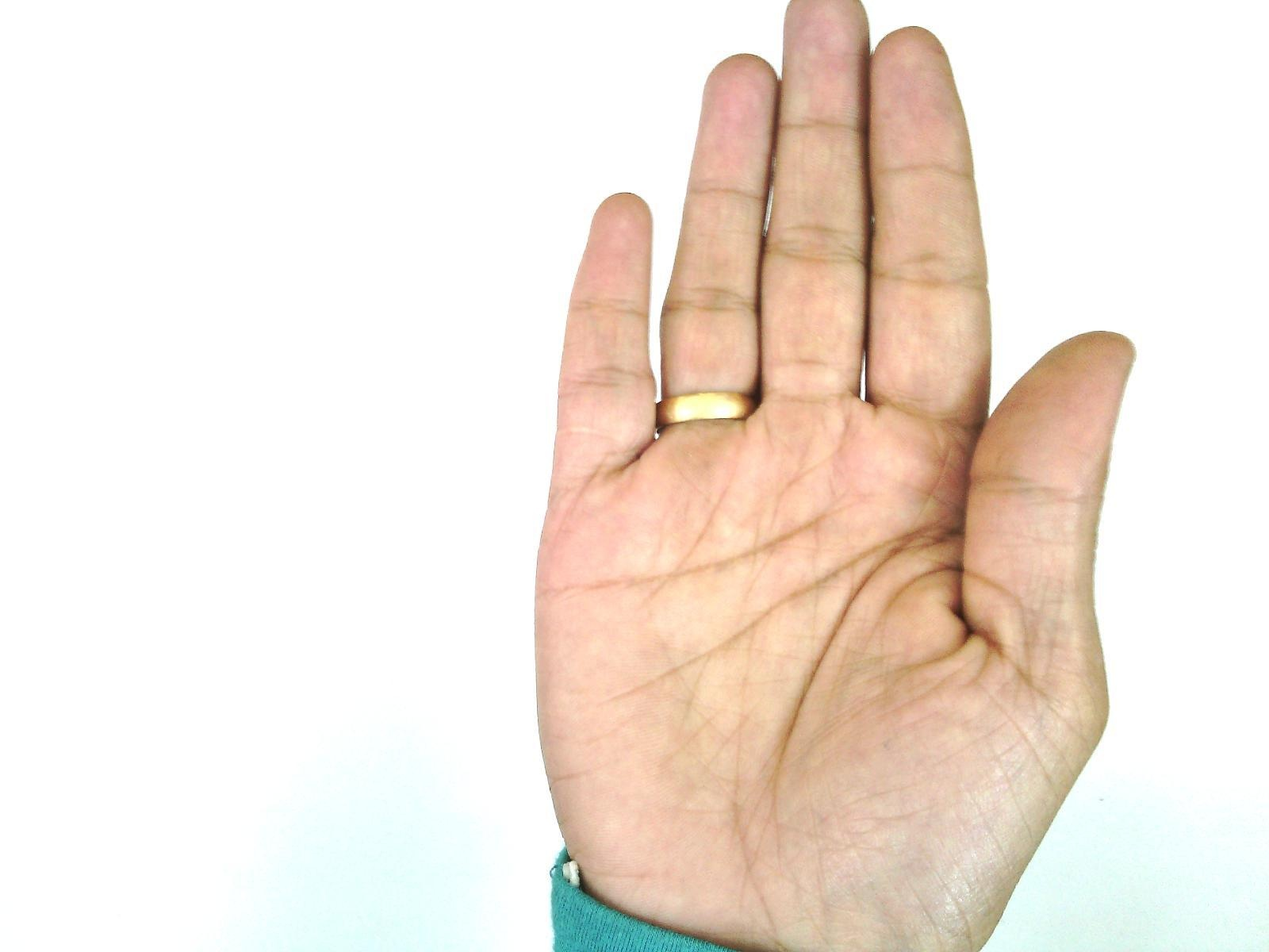open_palm: (530, 4, 1138, 951)
